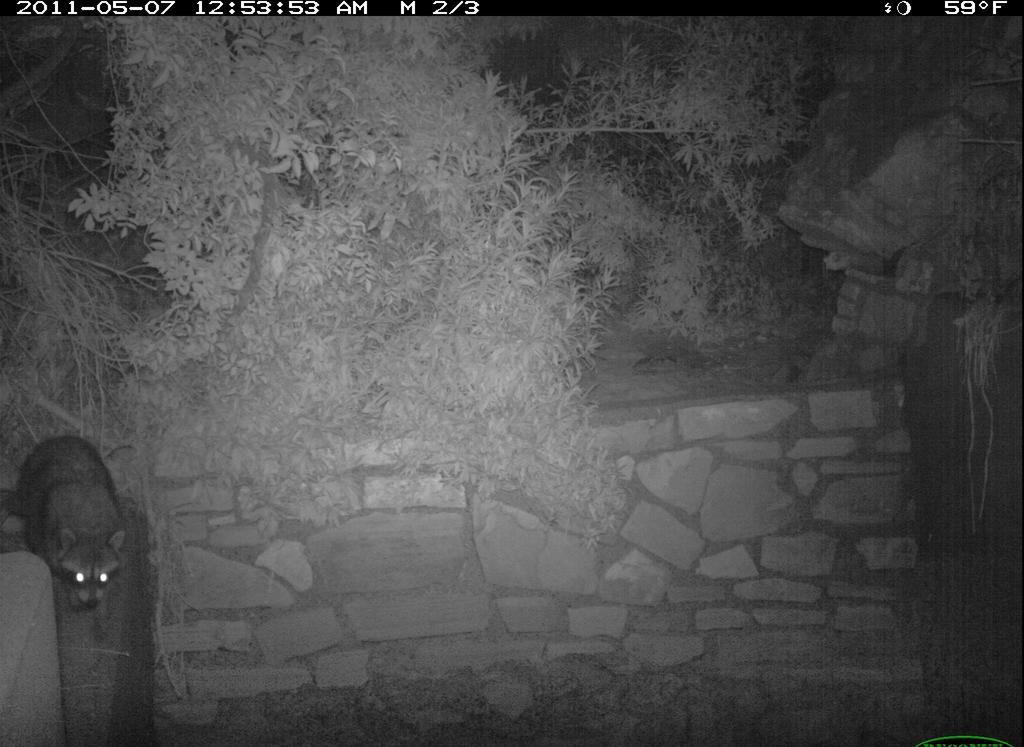raccoon: (8, 432, 127, 624)
